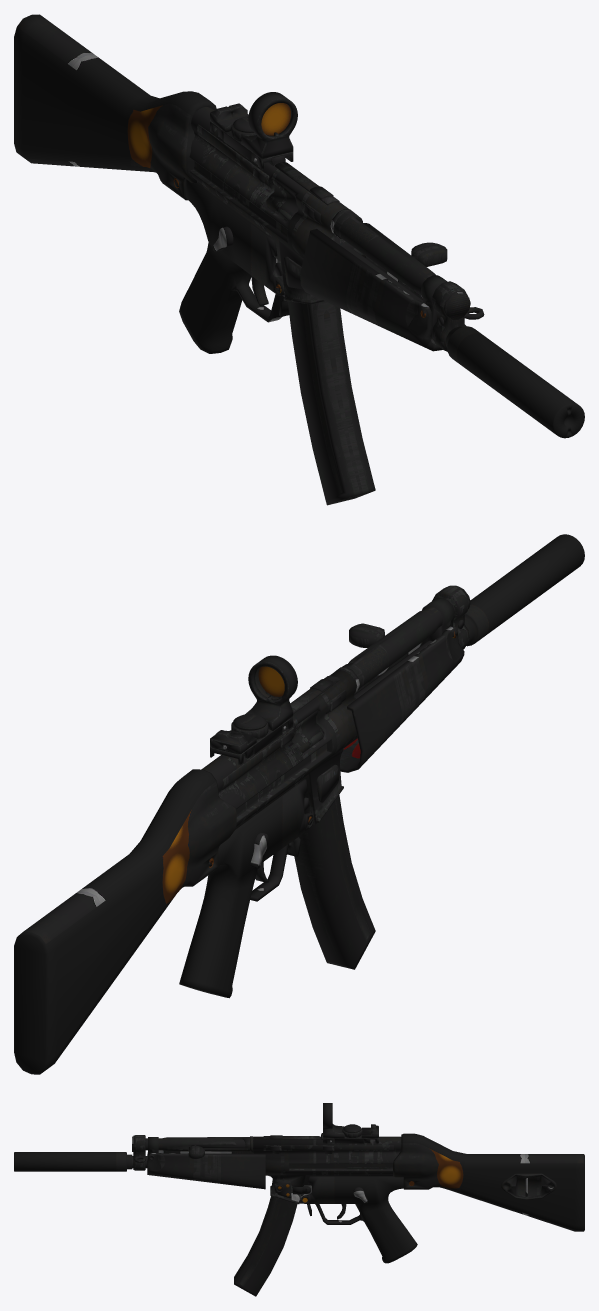
Rendered from Weapons_CNQ09_LOD0.glb.
The picture shows the model from 3 angles, top to bottom: view 1: azimuth 30°, elevation 25°; view 2: azimuth 150°, elevation 25°; view 3: azimuth 270°, elevation 25°; orthographic projection. The views are drawn at different scales.
Parts seen in each view (by area): view 1: Hoodie; view 2: Hoodie; view 3: Hoodie.
Boxes of the visible parts, x1,y1,x2,y2 form: Hoodie: (14, 14, 584, 505); Hoodie: (14, 534, 584, 1074); Hoodie: (14, 1103, 584, 1296).
Bounding box in the file's own units: 0.0656 × 0.2833 × 0.776.
1 material, 1 textured.
